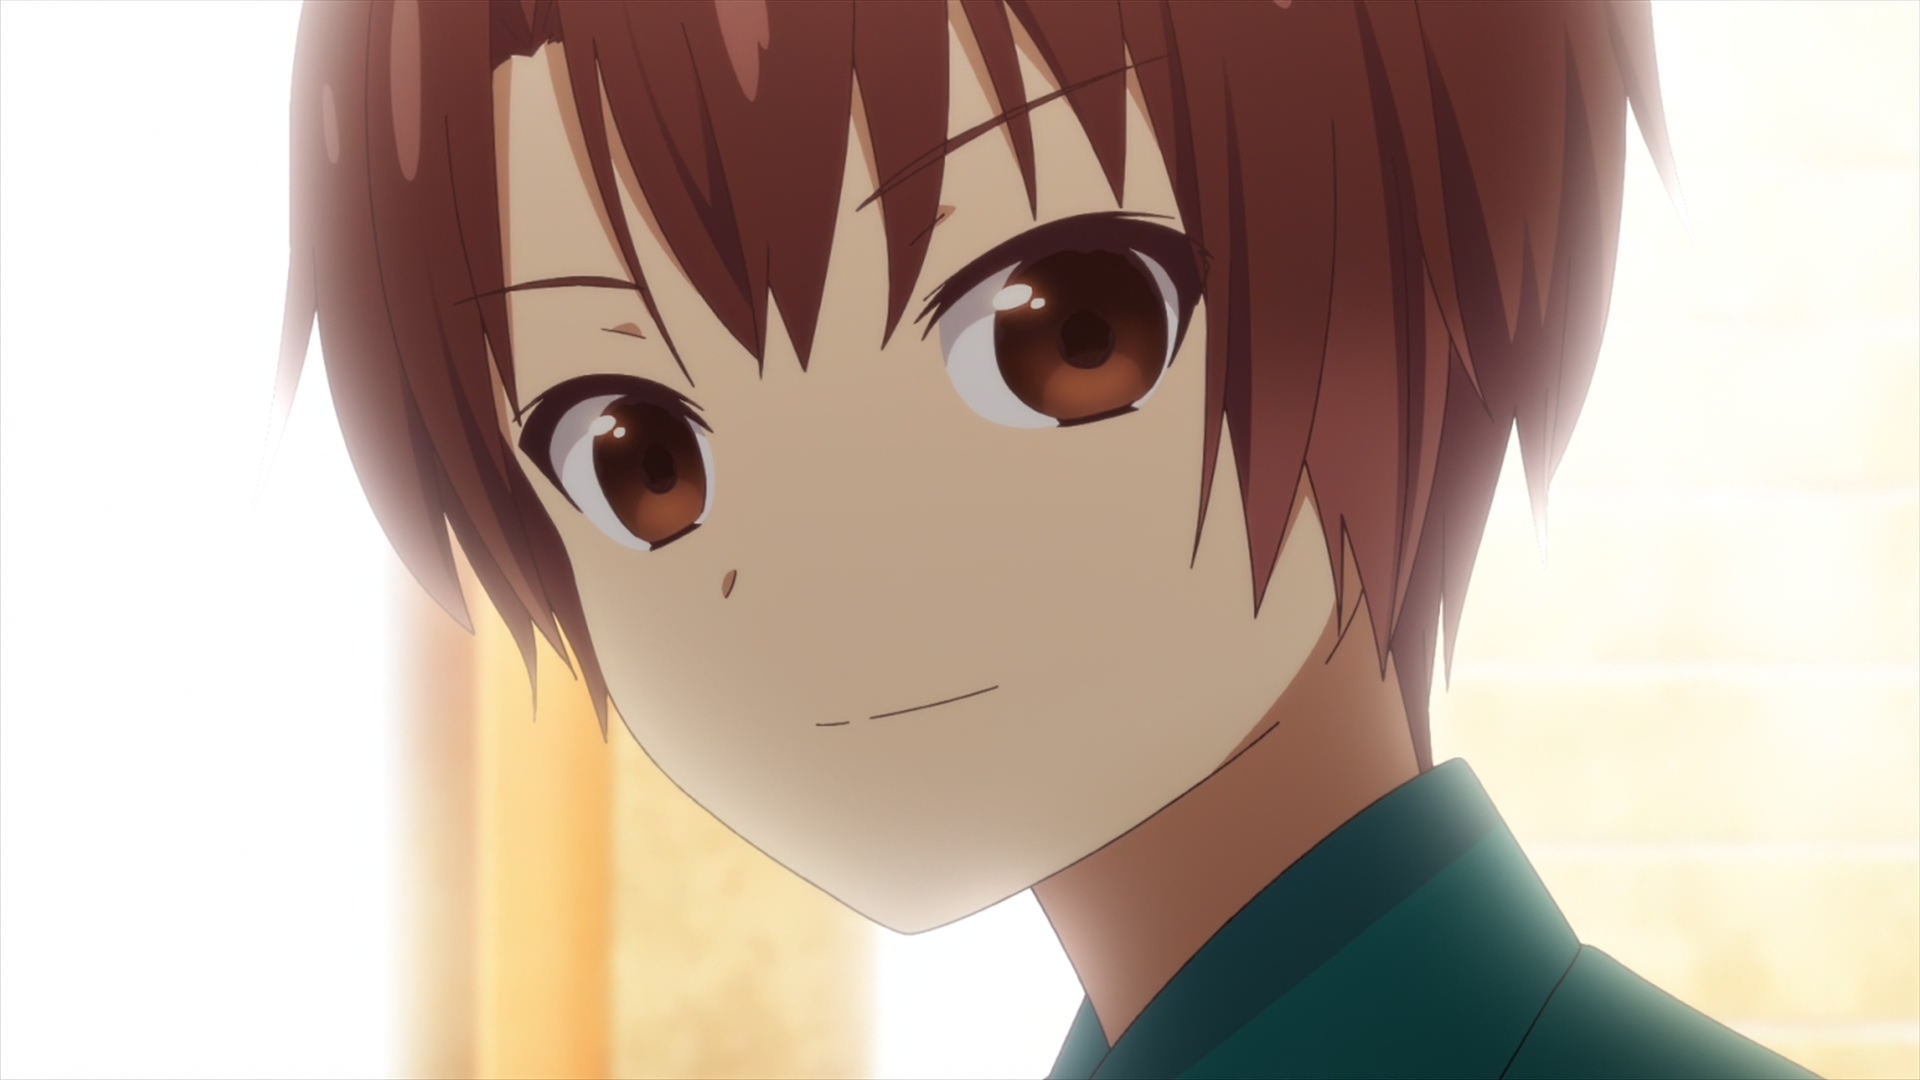枣: (276, 1, 1820, 1080)
